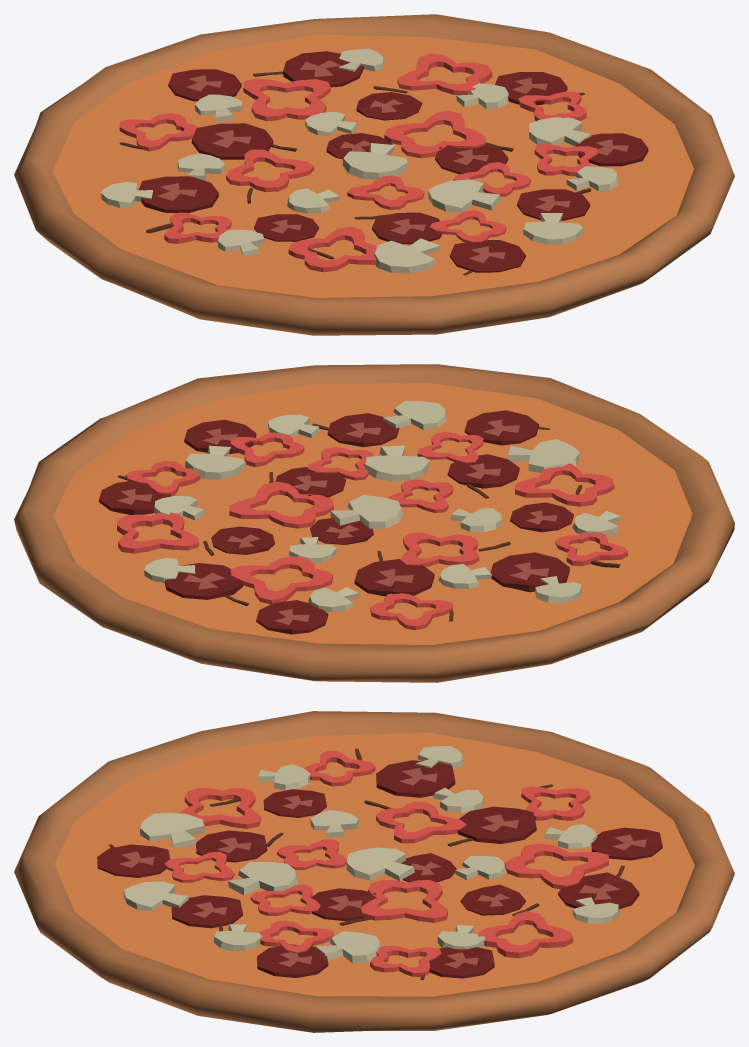
File: Forestiere.fbx
3 renders of one model, top to bottom at view 1: azimuth 30°, elevation 25°; view 2: azimuth 150°, elevation 25°; view 3: azimuth 270°, elevation 25°, orthographic.
Parts seen in each view (by area): view 1: Circle.002; view 2: Circle.002; view 3: Circle.002.
Boxes of the visible parts, box(x1,y1,x2,y2) form: Circle.002: box(14, 14, 734, 335); Circle.002: box(14, 364, 734, 682); Circle.002: box(14, 711, 734, 1032).
Size of the model in its own units: 199 by 10.21 by 202.
